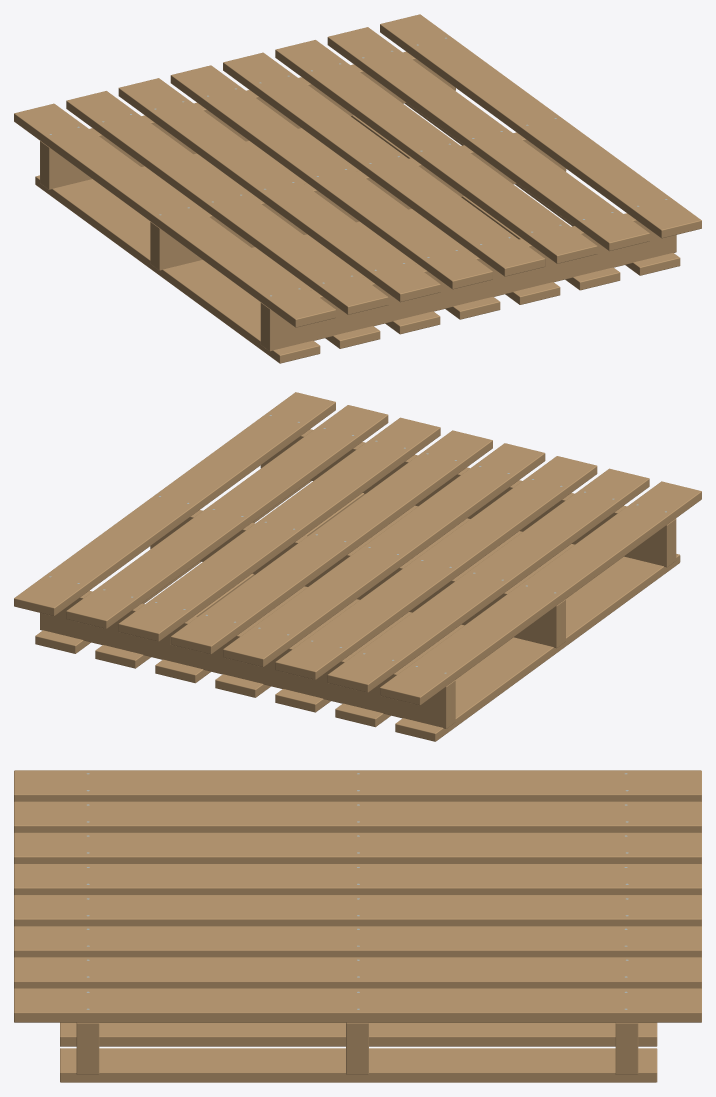
Rendered from pallet_block_a05.glb.
3 views of the same model, one above another, from view 1: azimuth 30°, elevation 25°; view 2: azimuth 150°, elevation 25°; view 3: azimuth 270°, elevation 25° (orthographic). The views are drawn at different scales.
Bounding box in the file's own units: 1 × 0.1386 × 1.2.
